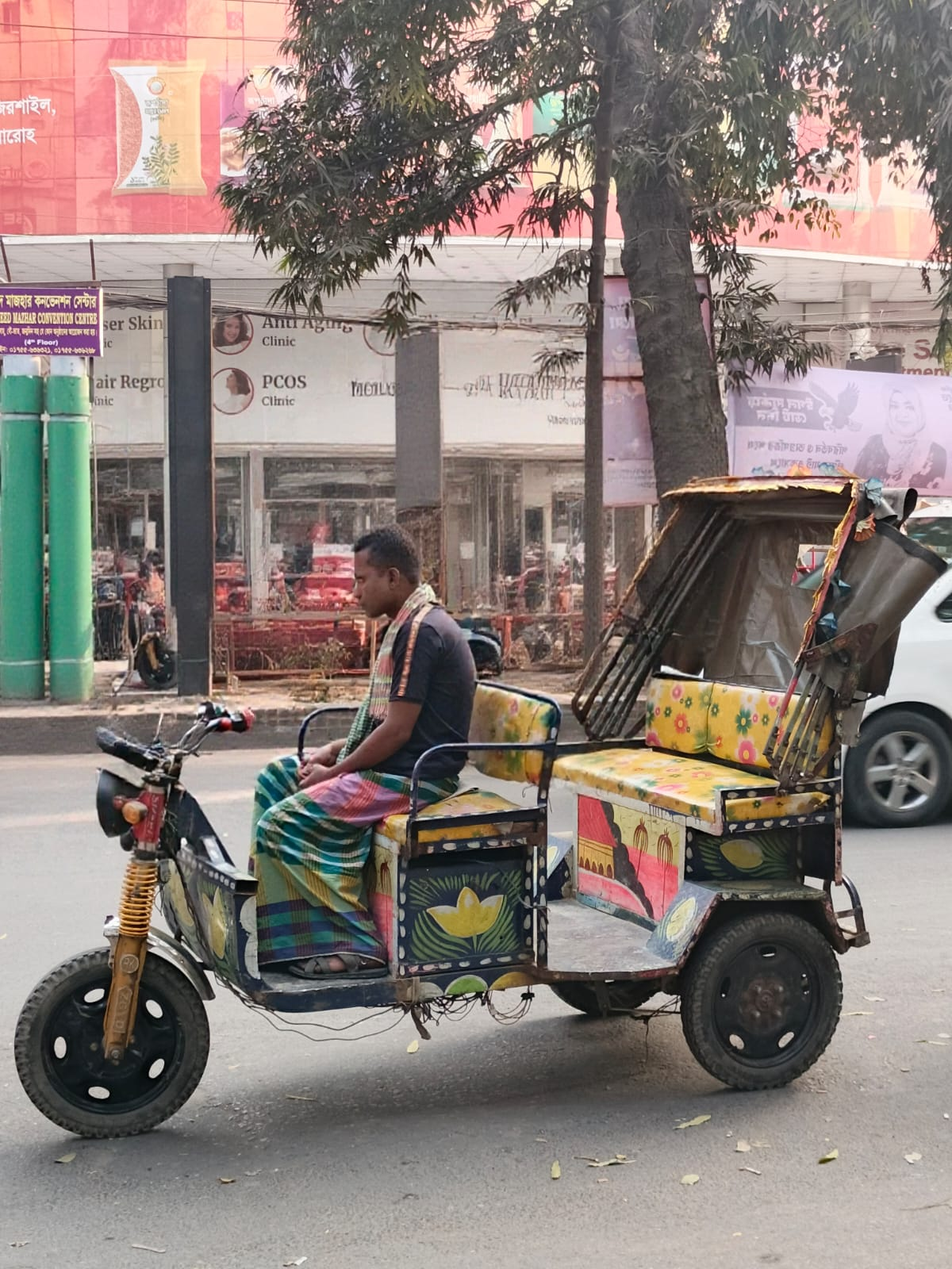auto-ricksaw: (16, 442, 928, 1134)
